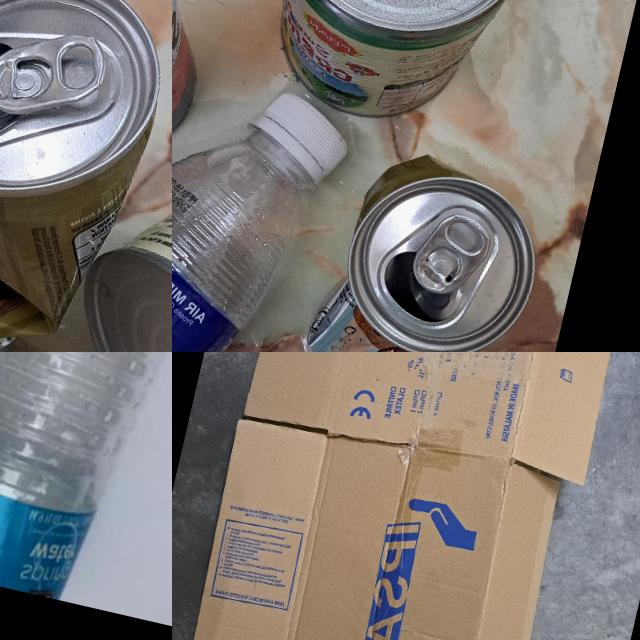aba de lata: (0, 14, 110, 130), (409, 206, 497, 301)
garrafa plástica: (0, 352, 172, 613), (172, 109, 311, 352)
lata: (0, 0, 172, 352), (287, 136, 557, 352), (240, 0, 552, 147), (36, 18, 172, 352)
papelão: (174, 352, 629, 640)
tampa plástica: (245, 88, 355, 182)
